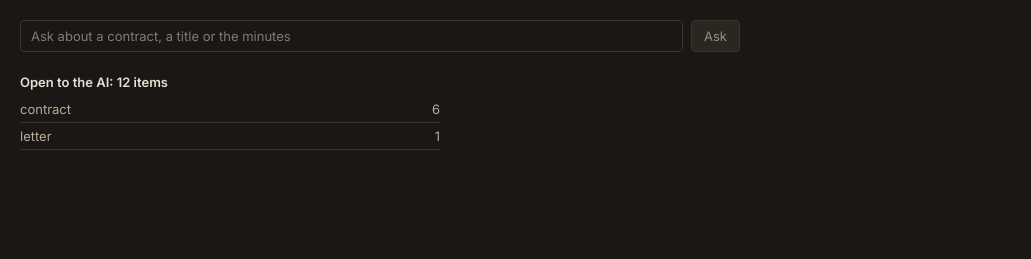
Test: AskPage › posts the question and renders sentences, chips, the quote, withheld count and staff-only list
This screenshot has width=1031, height=259.
In the field named "Question": (352, 36) [20,20,683,52], type "Who gets subsidiary rights income?"
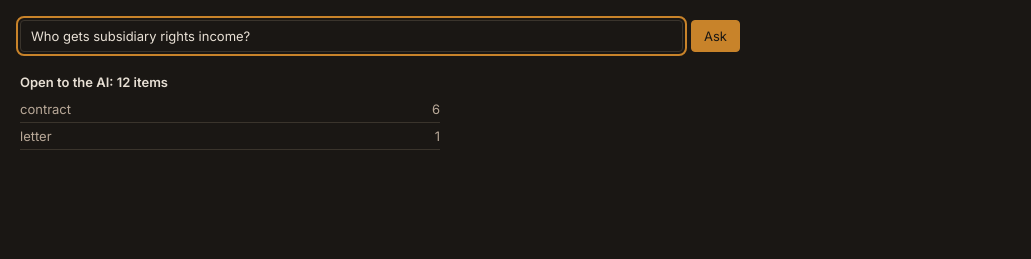
Click the button "Ask": (716, 36) [691,20,740,52]
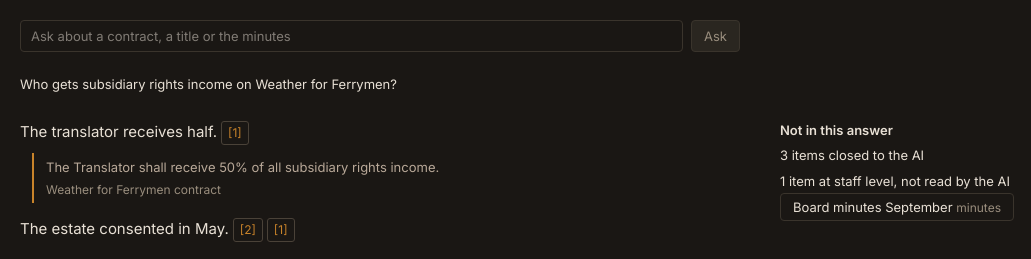
expect the text "The translator receives half. [1]" is shown: met, box [20,121,249,145]
expect the text "The Translator shall receive 50% of all subsidiary rights income." is shown: met, box [46,159,439,175]
expect the text "Weather for Ferrymen contract" is shown: met, box [46,182,221,197]
